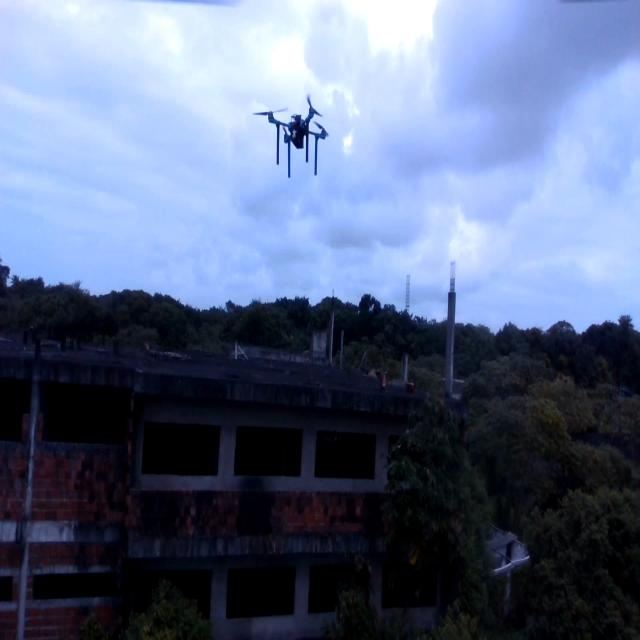-uav-: (249, 90, 336, 186)
